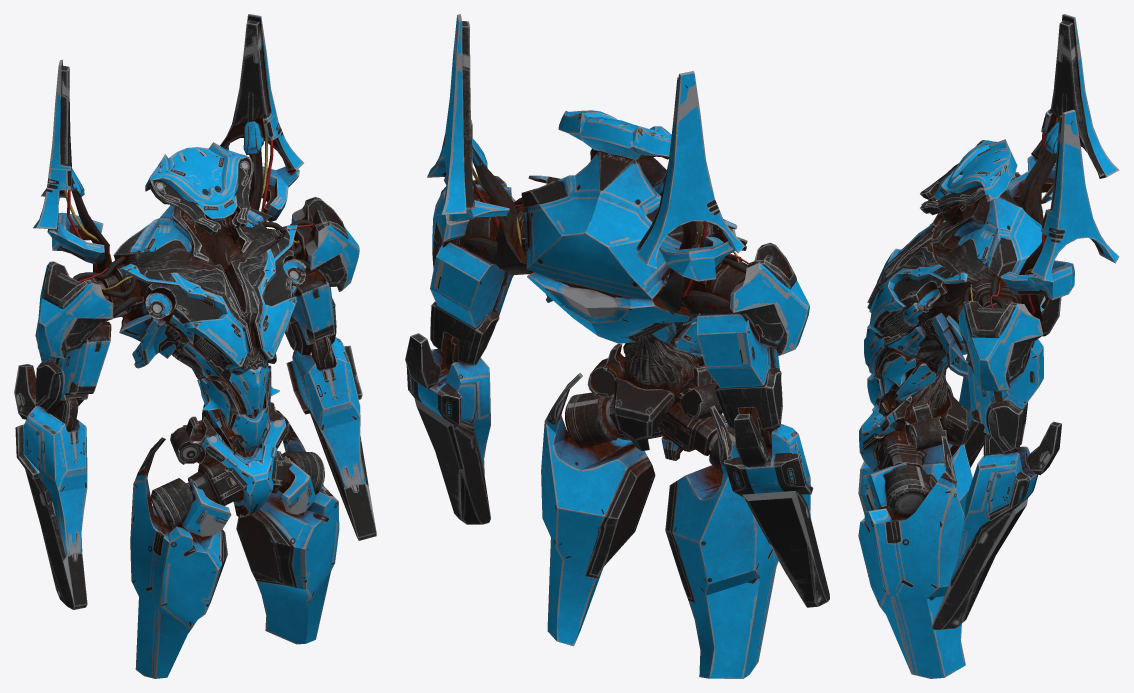
Rendered from pbr_mech_practice.glb.
3 renders of one model, left to right at view 1: azimuth 30°, elevation 25°; view 2: azimuth 150°, elevation 25°; view 3: azimuth 270°, elevation 25°, orthographic. The views are drawn at different scales.
Parts seen in each view (by area): view 1: Object_3, Object_2; view 2: Object_3, Object_2; view 3: Object_3, Object_2.
Boxes of the visible parts, box(x1,y1,x2,y2) form: Object_3: box(14, 14, 376, 678); Object_2: box(72, 142, 315, 517); Object_3: box(405, 14, 829, 678); Object_2: box(450, 110, 747, 460); Object_3: box(858, 14, 1119, 678); Object_2: box(859, 139, 1045, 471).
Bounding box in the file's own units: 2.88 × 4.61 × 1.9.
Materials: 2 (2 with a texture image).
